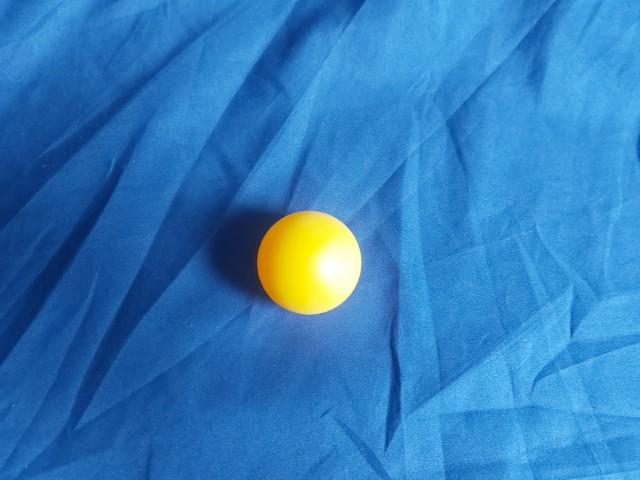oball: (265, 158, 390, 280)
